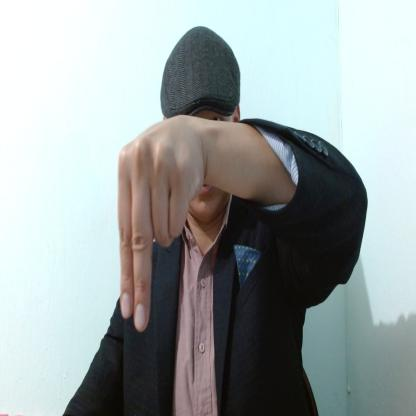N: (117, 118, 210, 332)
